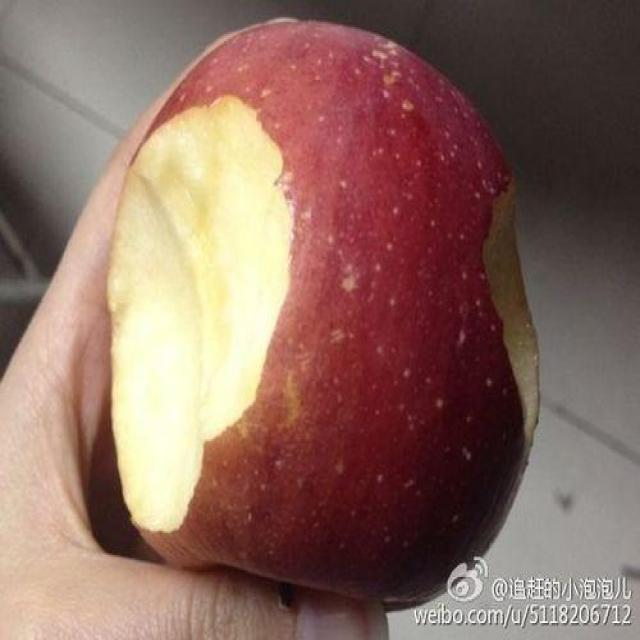Rotten: (105, 12, 544, 602)
